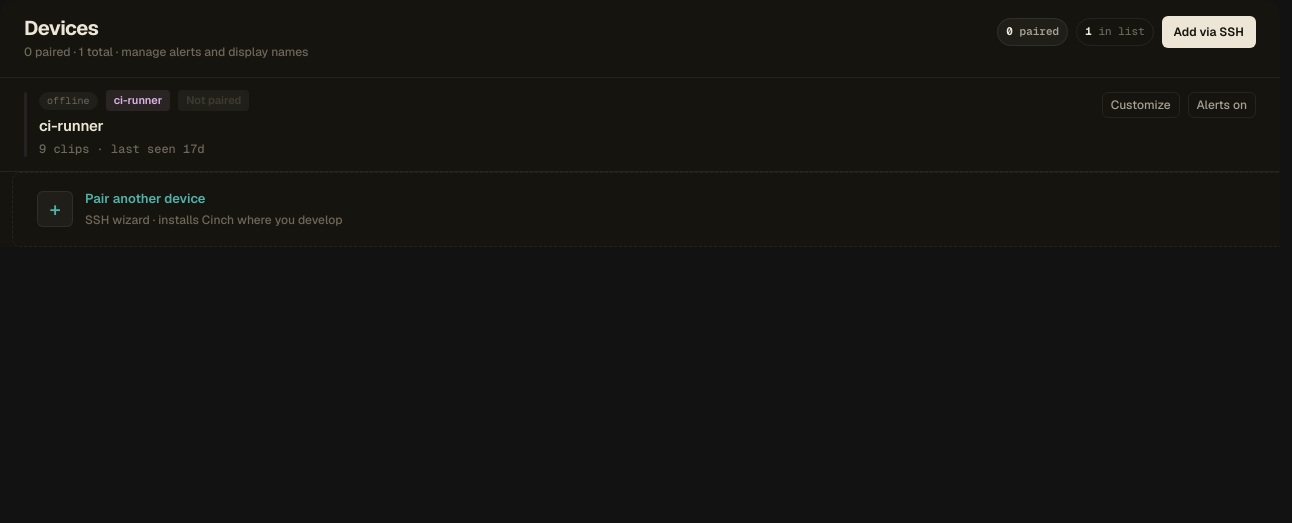
Test: DevicesPanel › persists a local display name for source-only devices
The image size is (1292, 523).
Click the button with aria-label "customize ci-runner" at (1141, 105), box [1102,92,1180,118]
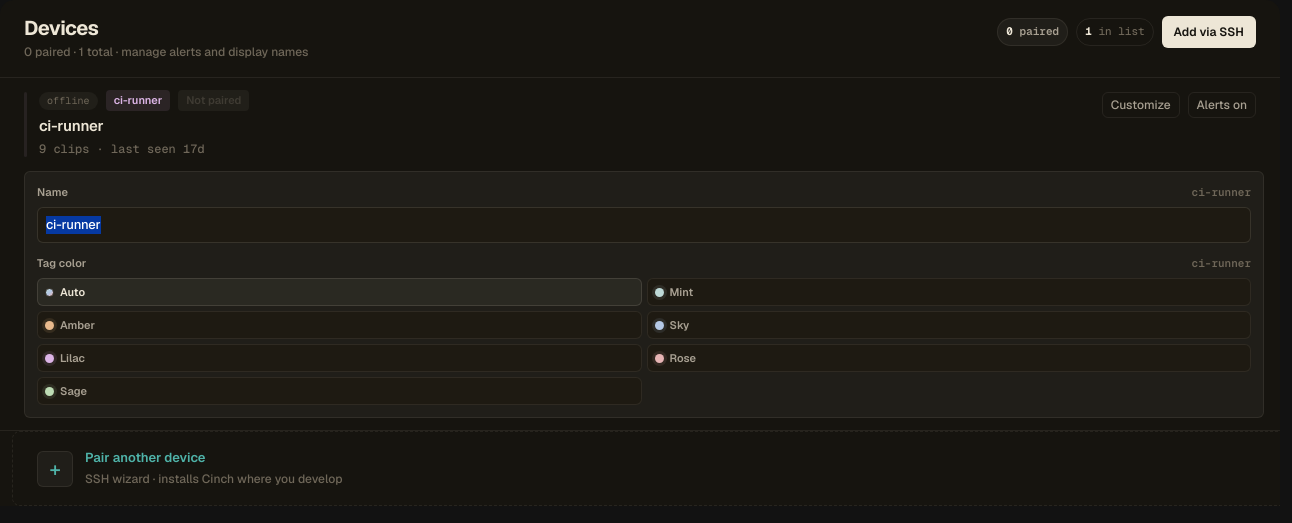
Replace the text in the field named "device display name" with "CI Runner" at (644, 225), box [37,207,1251,243]
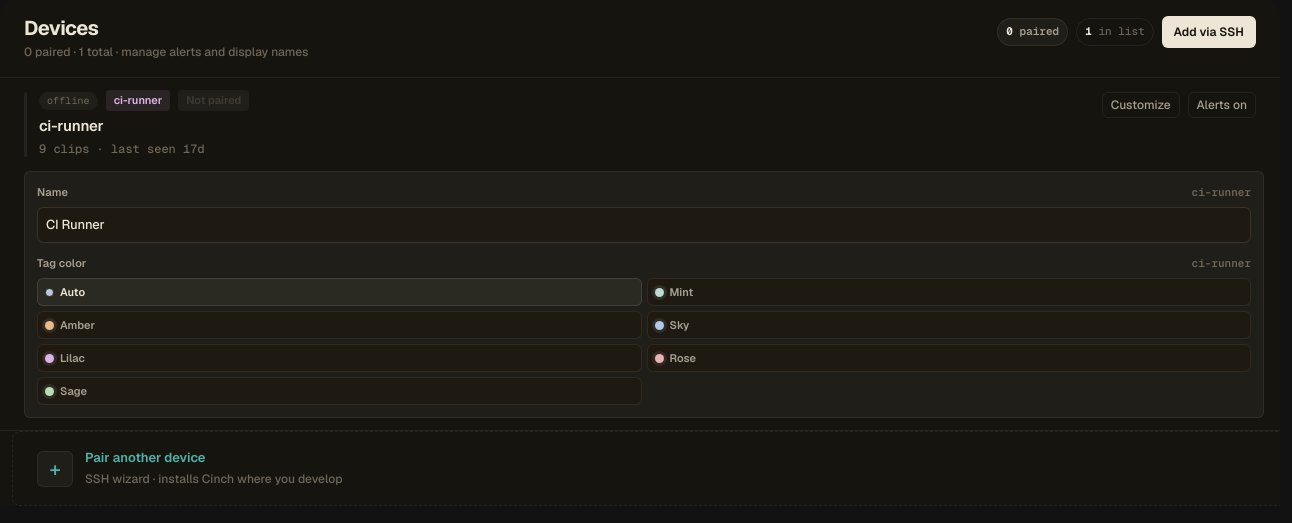
Press Enter in the field named "device display name", box [37,207,1251,243]
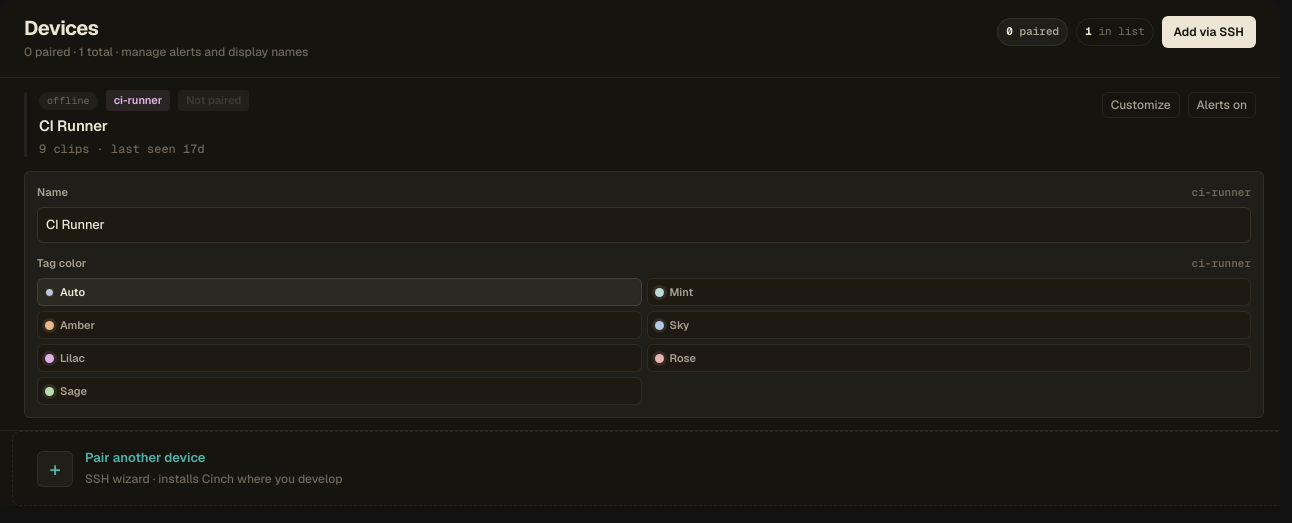
Expected: the text "CI Runner" is shown, [39,116,108,135]
